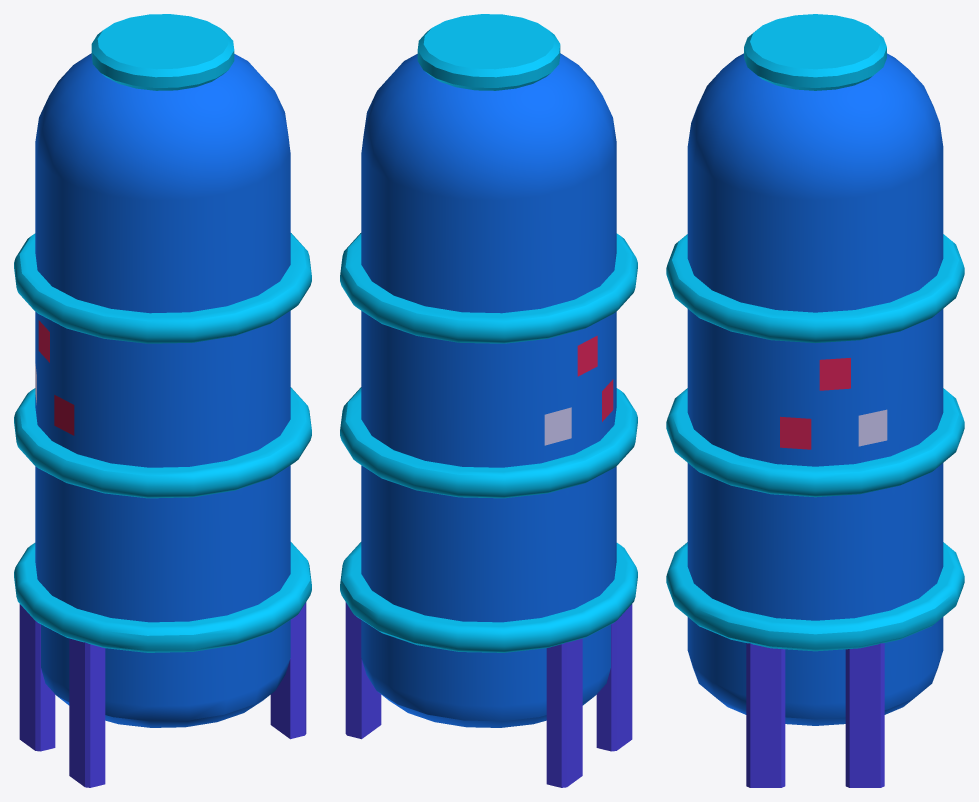
The model's file is Building_022.fbx.
3 views of the same model, side by side, from view 1: azimuth 30°, elevation 25°; view 2: azimuth 150°, elevation 25°; view 3: azimuth 270°, elevation 25° (orthographic).
Visible parts, largest first — view 1: Building_022; view 2: Building_022; view 3: Building_022.
Boxes of the visible parts, x1,y1,x2,y2 form: Building_022: (14, 14, 311, 787); Building_022: (340, 14, 637, 787); Building_022: (666, 14, 964, 787).
Bounding box in the file's own units: 14.25 × 36.47 × 14.25.
